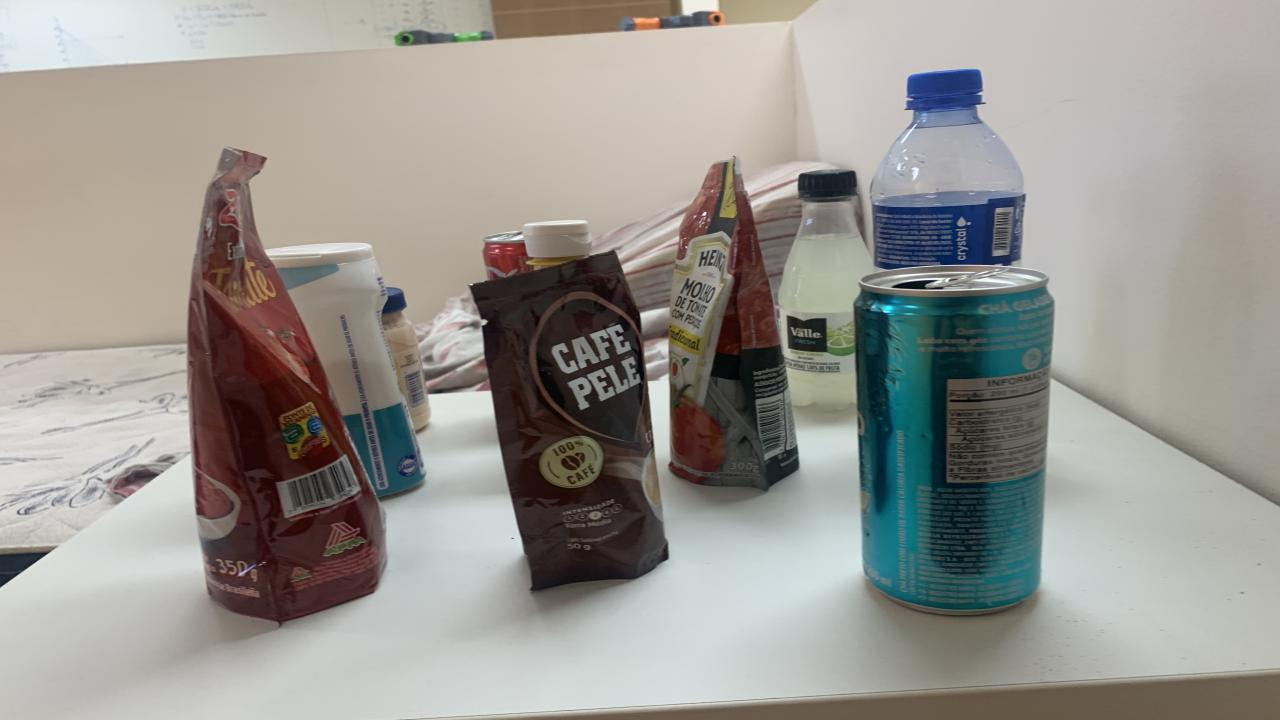Cleaner-Cleanup_Items: (265, 242, 425, 495)
Coffee-Pantry_Items: (470, 251, 668, 589)
Coke-Drinks: (482, 231, 532, 279)
Mayonnaise-Pantry_Items: (382, 287, 430, 429)
Soda-Drinks: (778, 169, 872, 409)
Tea-Drinks: (855, 264, 1055, 615)
Tomato_Sauce-Pantry_Items: (188, 148, 385, 622), (668, 158, 800, 489)
Water_Bottle-Drinks: (870, 69, 1025, 268)
